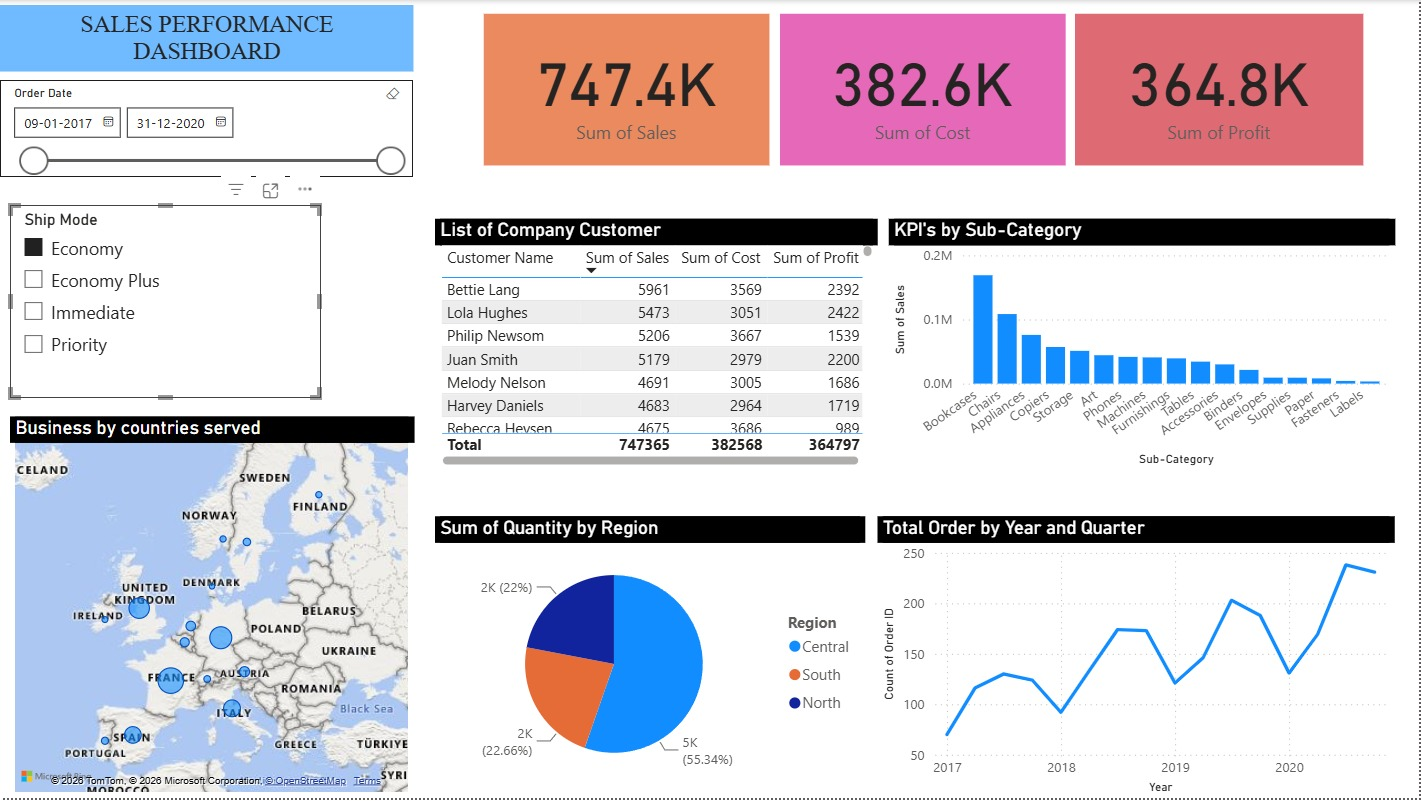

The page's visual inventory and layout, read from the dashboard file:
{"tool":"powerbi","page":{"name":"Page 1","canvas":[1280,720],"ordinal":0},"visuals":[{"type":"card","fields":{"Values":["Sum(List of Orders.Sales)"]},"box":[436.6,12.4,257.5,136.8],"z":0},{"type":"card","fields":{"Values":["Sum(List of Orders.Cost)"]},"box":[702.8,12.4,257.5,136.8],"z":1000},{"type":"card","fields":{"Values":["Sum(List of Orders.Profit)"]},"box":[969,12.4,260,136.8],"z":2000},{"type":"tableEx","title":"List of Company Customer ","fields":{"Values":["List of Orders.Customer Name","Sum(List of Orders.Sales)","Sum(List of Orders.Cost)","Sum(List of Orders.Profit)"]},"box":[391.8,197.8,399.3,227.6],"z":3000},{"type":"clusteredColumnChart","title":"KPI''s by Sub-Category","fields":{"Category":["List of Orders.Sub-Category"],"Y":["Sum(List of Orders.Sales)"]},"box":[801.1,197.8,456.5,227.6],"z":4000},{"type":"lineChart","title":"Total Order by Year and Quarter","fields":{"Y":["CountNonNull(List of Orders.Order ID)"],"Category":["List of Orders.Order Date.Variation.Date Hierarchy.Year","List of Orders.Order Date.Variation.Date Hierarchy.Quarter"]},"box":[791.2,465.2,466.5,255],"z":5000},{"type":"pieChart","fields":{"Category":["List of Orders.Region"],"Y":["Sum(List of Orders.Quantity)"]},"box":[391.8,465.2,388.1,247.5],"z":6000},{"type":"textbox","box":[0,4.5,373.1,59.7],"z":7000},{"type":"slicer","fields":{"Values":["List of Orders.Ship Mode"]},"box":[8.7,185.3,281.1,174.2],"z":8000},{"type":"slicer","fields":{"Values":["List of Orders.Order Date"]},"box":[0,72.1,373.2,88.3],"z":9000},{"type":"map","title":"Business by countries served","fields":{"Size":["Sum(List of Orders.Sales)"],"Category":["List of Orders.Country"]},"box":[8.7,375.7,364.5,344.6],"z":10000}]}

Visuals, with their boxes in screenshot pixels (x1, y1, x2, y2), scaled from the page's 1280x720 canvas onto the 1421x801 screenshot:
card - Sum(List of Orders.Sales): <region>485, 14, 771, 166</region>
card - Sum(List of Orders.Cost): <region>780, 14, 1066, 166</region>
card - Sum(List of Orders.Profit): <region>1076, 14, 1364, 166</region>
"List of Company Customer " tableEx: <region>435, 220, 878, 473</region>
"KPI''s by Sub-Category" clusteredColumnChart: <region>889, 220, 1396, 473</region>
"Total Order by Year and Quarter" lineChart: <region>878, 518, 1396, 800</region>
pieChart - List of Orders.Region x Sum(List of Orders.Quantity): <region>435, 518, 866, 793</region>
textbox: <region>0, 5, 414, 71</region>
slicer - List of Orders.Ship Mode: <region>10, 206, 322, 400</region>
slicer - List of Orders.Order Date: <region>0, 80, 414, 178</region>
"Business by countries served" map: <region>10, 418, 414, 800</region>
